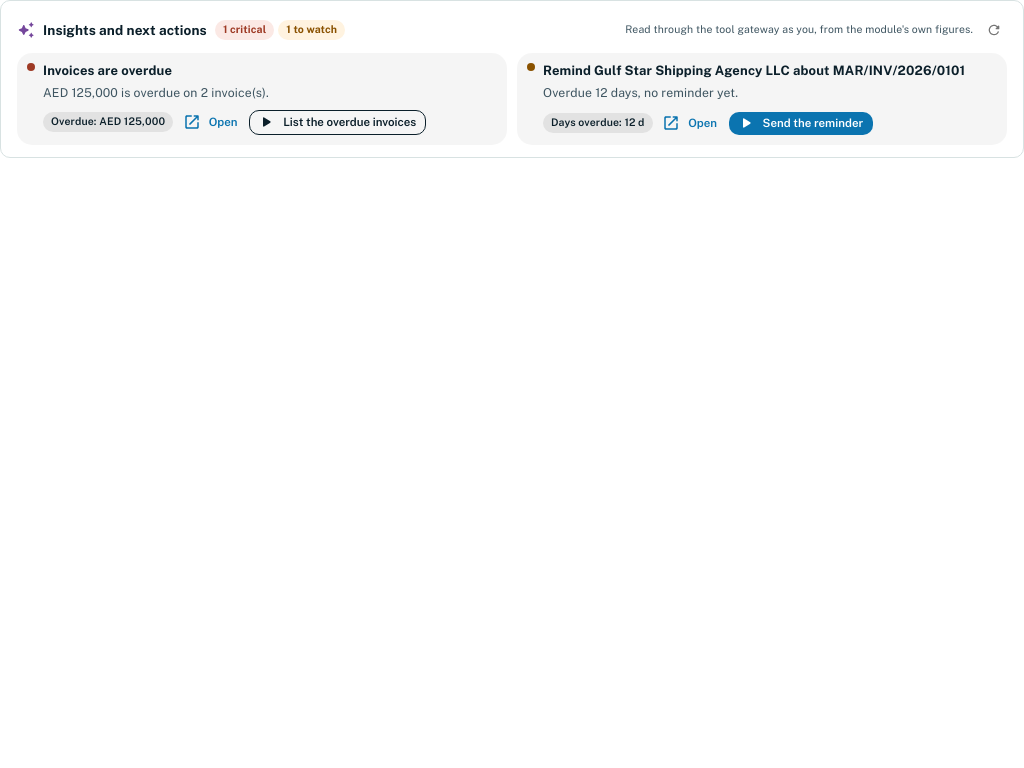
Test: insights and next actions › asks before an action that changes a record, then carries it and reports the gateway's answer
The width and height of the screenshot is (1024, 768).
Click the button with test id "insight-action-finance.remind-inv-1". click: (801, 123)
box: [729,112,873,135]
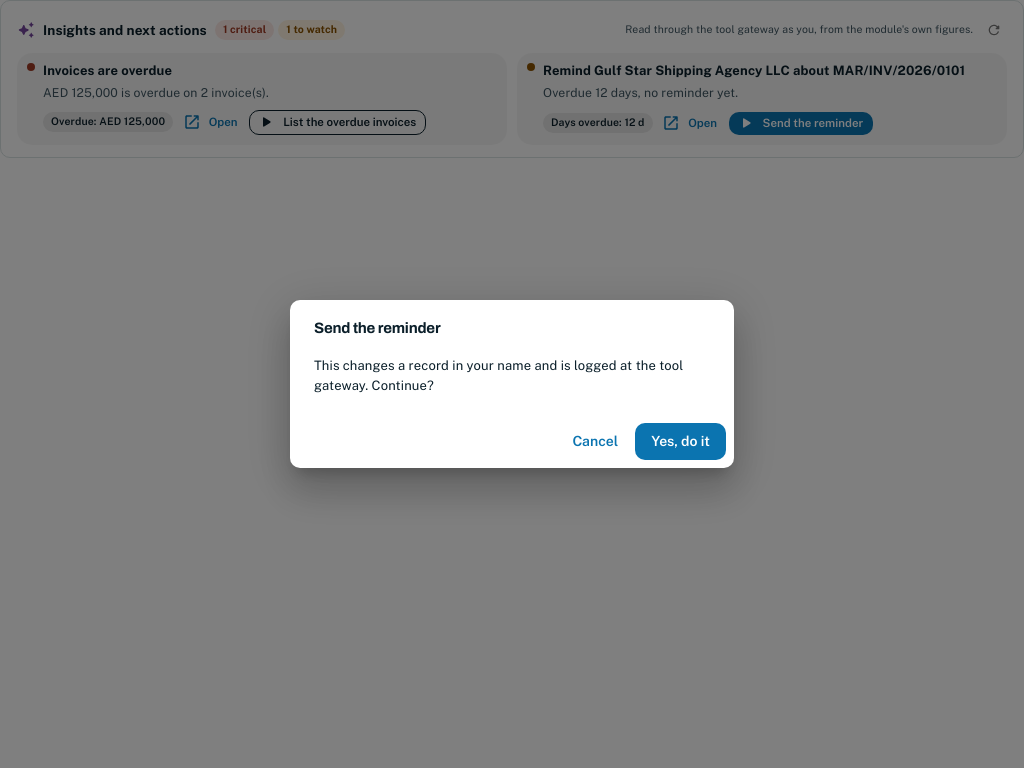
Click the button with test id "insight-confirm". click: (681, 442)
box: [635,423,726,460]
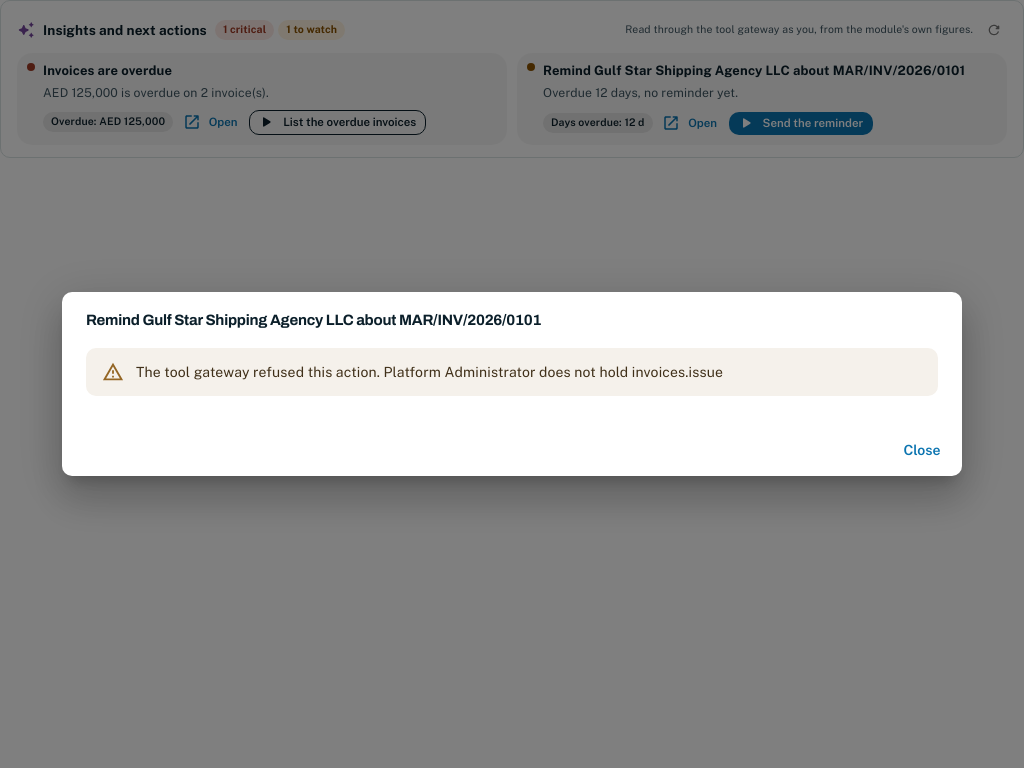
Now the message with test id "insight-result-refused" shows "does not hold invoices.issue", box [384,364,723,380]
